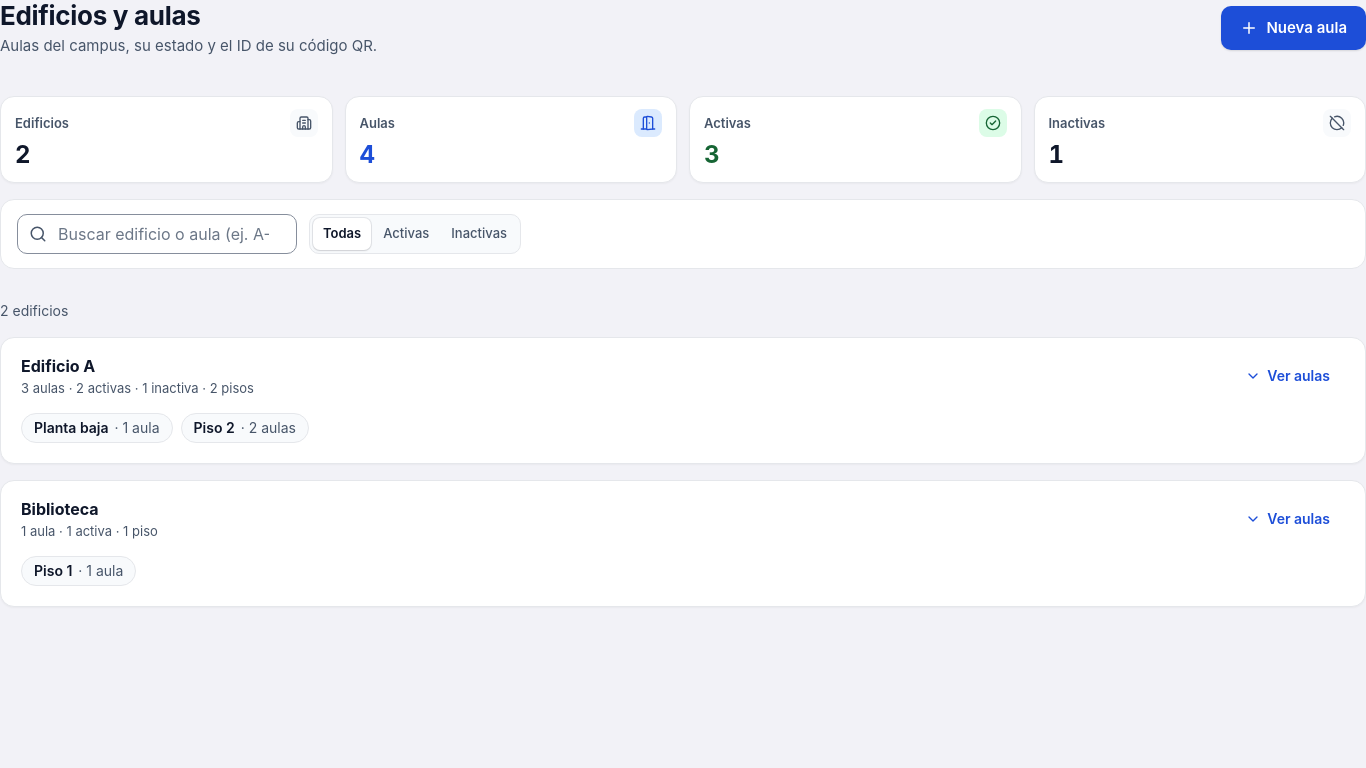
Test case: AdminEdificios › desactiva con confirmación y activa sin confirmación
This screenshot has width=1366, height=768.
Click the button "Ver aulas" in the row of "Edificio A" at (1288, 376), box [1230, 356, 1345, 396]
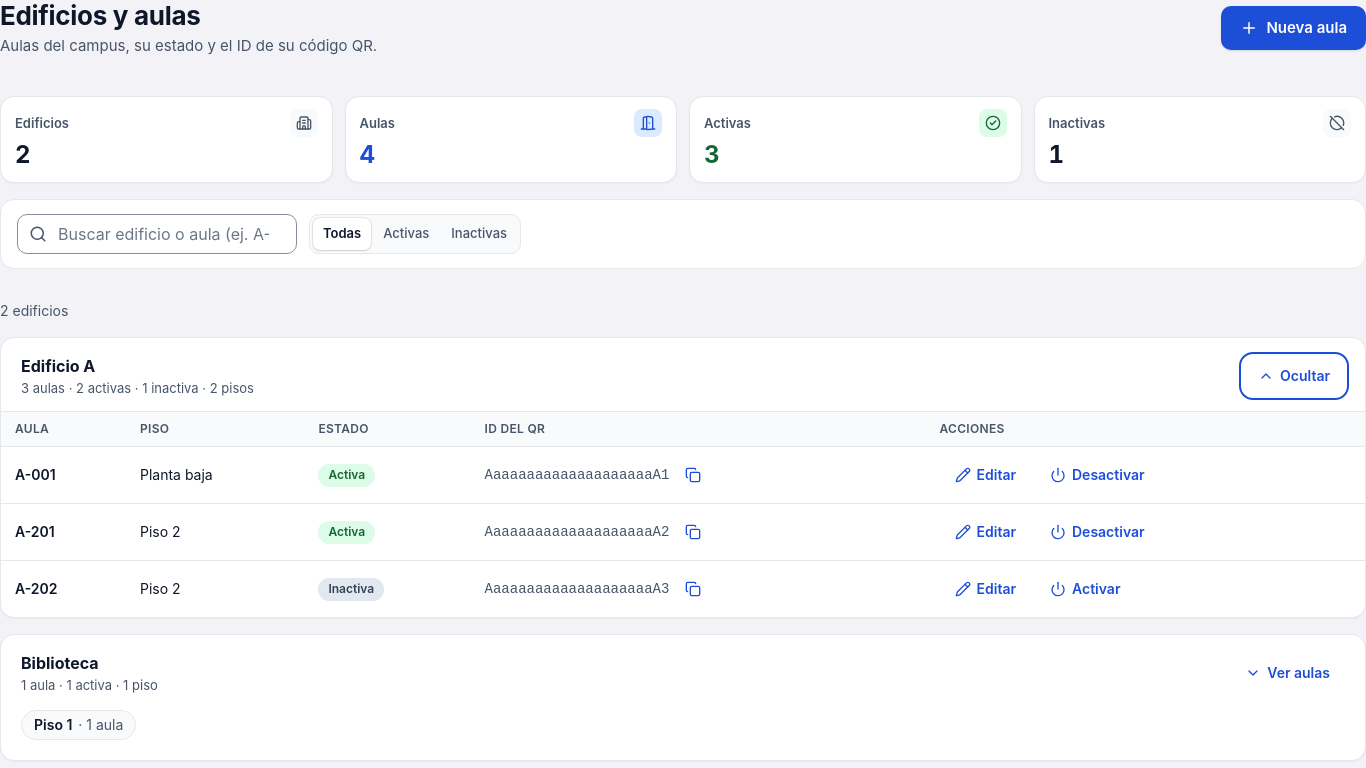
Click the button with aria-label "Desactivar A-001" at (1097, 475), box [1035, 455, 1160, 495]
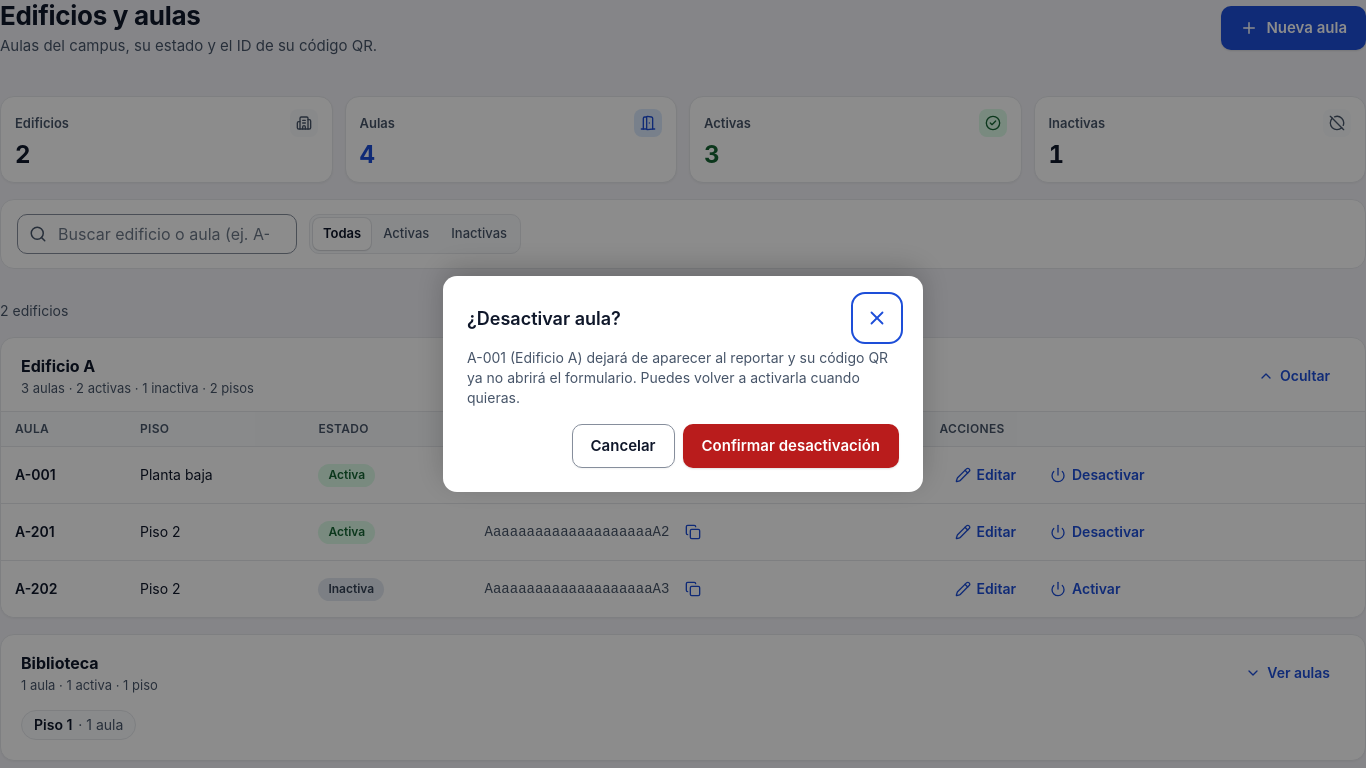
Expected: the dialog "¿Desactivar aula?" shows "su código QR ya no abrirá el formulario", [467, 349, 888, 406]
Click the button "Confirmar desactivación" at (791, 446), box [682, 424, 899, 468]
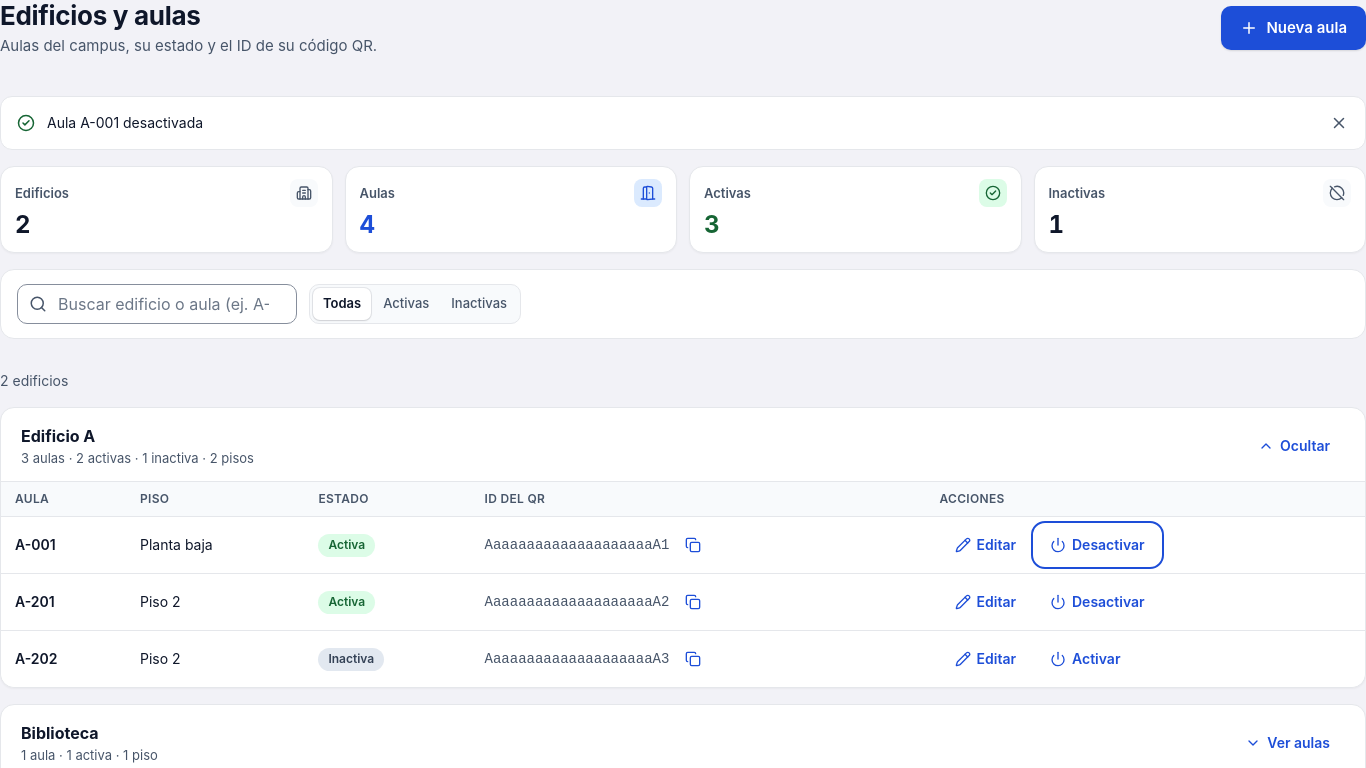
Expected: the text "Aula A-001 desactivada" is shown, [47, 114, 203, 131]
Click the button with aria-label "Activar A-202" at (1085, 659), box [1035, 639, 1135, 679]
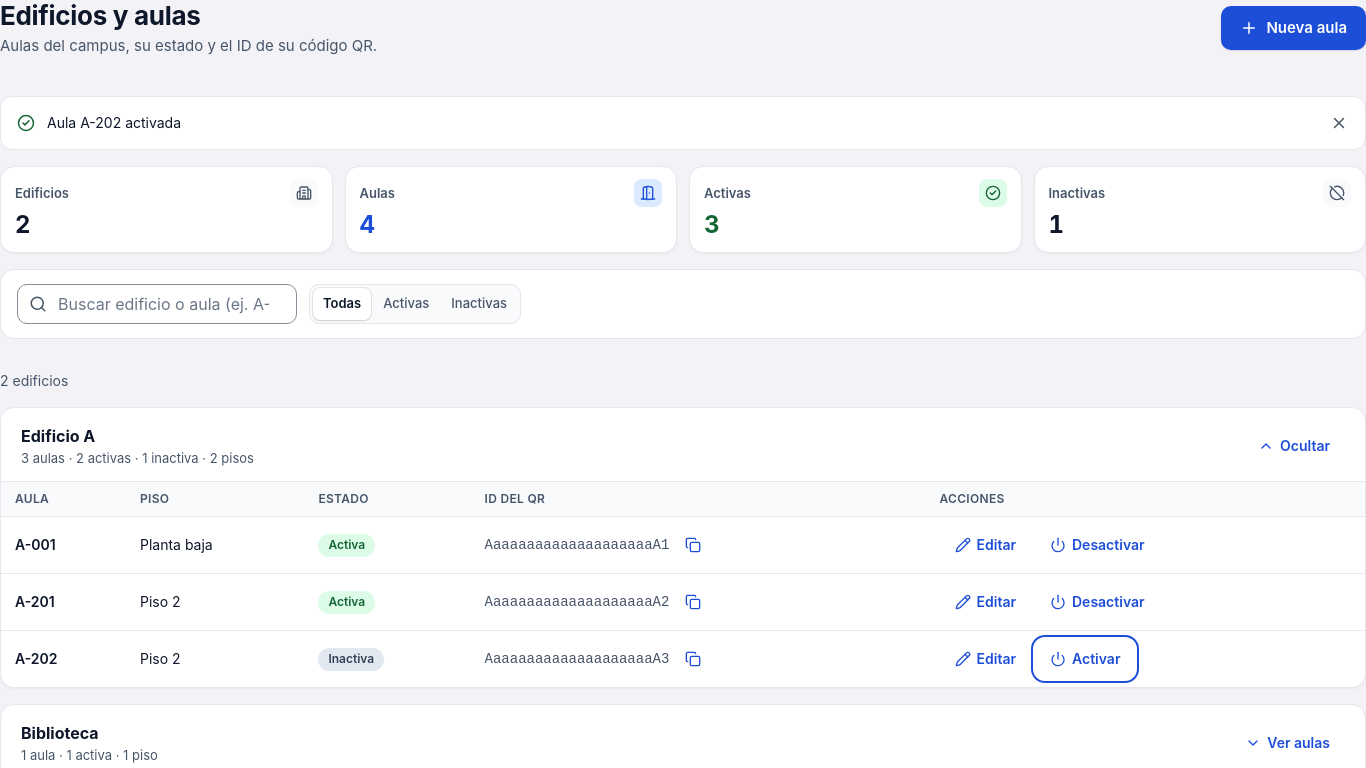
Expected: the text "Aula A-202 activada" is shown, [47, 114, 181, 131]
